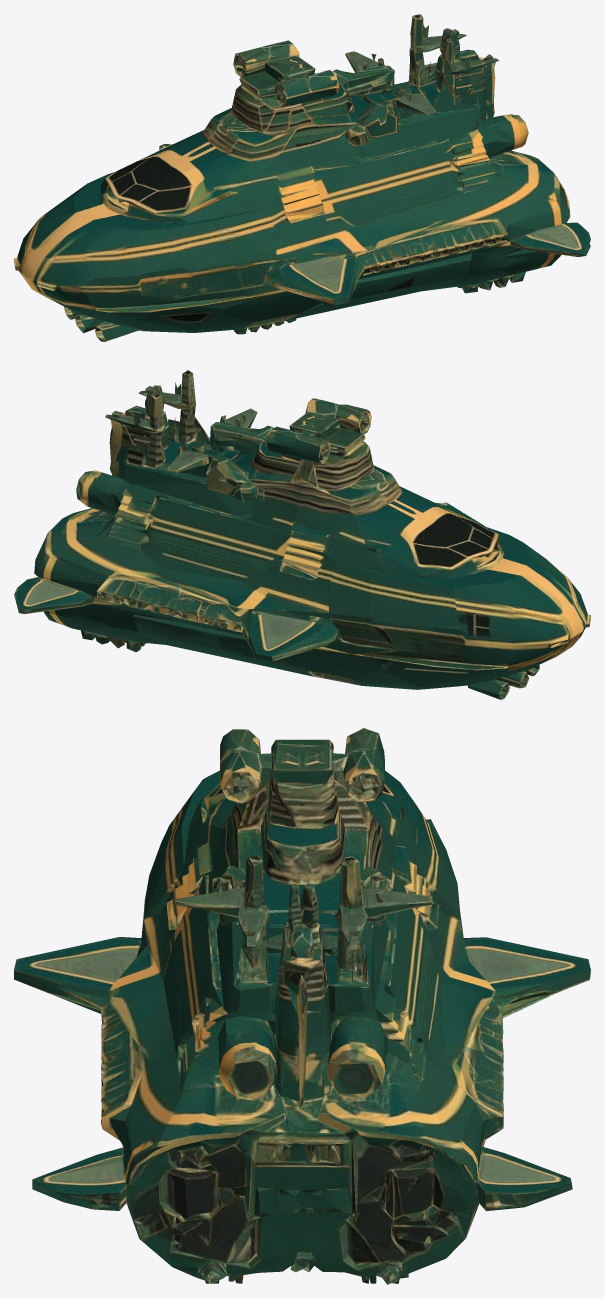
The model's file is nation-s-carrier.glb.
3 views of the same model, one above another, from view 1: azimuth 30°, elevation 25°; view 2: azimuth 150°, elevation 25°; view 3: azimuth 270°, elevation 25° (orthographic). The views are drawn at different scales.
Bounding box in the file's own units: 1.89 × 0.9135 × 1.24.
Materials: 1 (1 with a texture image).
